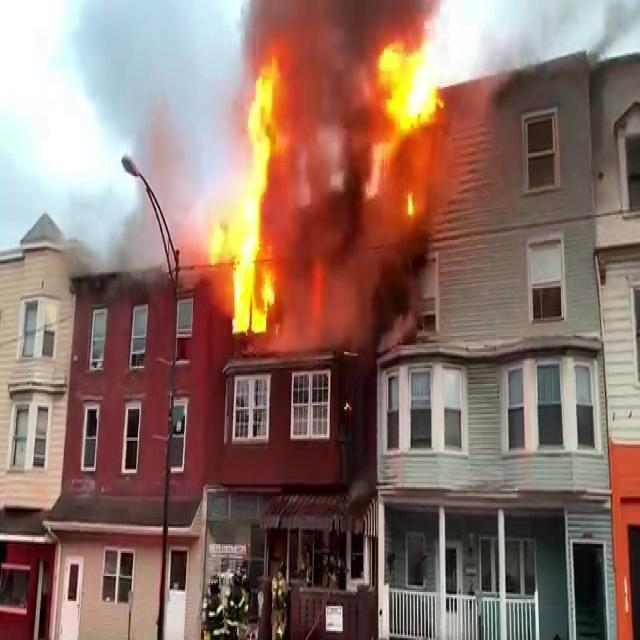Fire: (206, 47, 295, 342), (353, 20, 447, 236)
Smoke: (82, 69, 210, 279)
